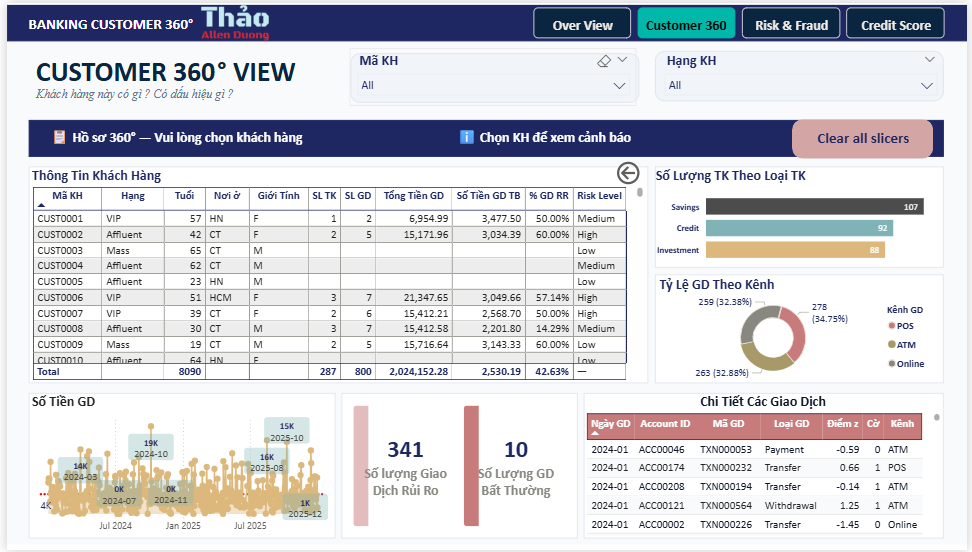

The page's visual inventory and layout, read from the dashboard file:
{"tool":"powerbi","page":{"name":"Customer 360° View","canvas":[1280,730],"ordinal":1},"visuals":[{"type":"cardVisual","fields":{"Data":["_measure.TieuDe_KH_360_v3","_measure.Canhbao_spike_KH_v2"]},"box":[28.3,148.3,1113.3,58.3],"z":0},{"type":"shape","box":[1047,154.3,188.3,52.6],"z":0,"group":"g1"},{"type":"slicer","fields":{"Values":["dim_customers.segment"]},"box":[866.2,60,383.8,76.2],"z":1000},{"type":"slicer","fields":{"Values":["dim_customers.customer_id"]},"box":[456.2,60,383.8,76.2],"z":2000},{"type":"tableEx","title":"Thông Tin Khách Hàng","fields":{"Values":["dim_customers.customer_id","dim_customers.segment","Sum(dim_customers.age)","dim_customers.city","dim_customers.gender","_measure.SL_TK","_measure.SL_GD","_measure.TT_GD","_measure.TB_TIEN_GD","_measure.%_GD_rui_ro","_measure.MUCRR_moi_nhat"]},"box":[28.8,218.8,825,288.8],"z":3000},{"type":"barChart","title":"Số Lượng TK Theo Loại TK","fields":{"Category":["dim_accounts.account_type"],"Y":["_measure.SL_TK"]},"box":[864.3,218.6,384.3,134.3],"z":4000},{"type":"lineChart","title":"Số Tiền GD ","fields":{"Y":["_measure.TT_GD"],"Category":["fact_transactions.txn_date"]},"box":[28.6,520,412.9,195.7],"z":5000},{"type":"cardVisual","fields":{"Data":["_measure.SL_GD_RUI_RO","_measure.SL_GD_spike"]},"box":[445.7,520,321.4,195.7],"z":6000},{"type":"actionButton","box":[1041.4,163.2,200,25.8],"z":7000,"group":"g1"},{"type":"donutChart","title":"Tỷ Lệ GD Theo Kênh","fields":{"Category":["fact_transactions.channel"],"Y":["_measure.SL_GD"]},"box":[865.6,363.3,384.4,144.4],"z":7000},{"type":"tableEx","title":"Chi Tiết Các Giao Dịch","fields":{"Values":["fact_transactions.txn_date","dim_accounts.account_id","fact_transactions.txn_id","fact_transactions.txn_type","Sum(fact_transactions.z_score)","Sum(fact_transactions.risk_flag)","fact_transactions.channel"]},"box":[767.1,520,482.9,195.7],"z":8000},{"type":"group","id":"g1","title":"Clear all Slicer","box":[1041.4,154.3,200,52.9],"z":9000},{"type":"actionButton","box":[808.6,207.1,45.7,40],"z":10000},{"type":"actionButton","box":[1119.7,7.9,131.4,41.7],"z":11000},{"type":"actionButton","box":[840,8.4,131.6,41.1],"z":12000},{"type":"actionButton","box":[702.6,7.9,128.9,41.6],"z":13000},{"type":"actionButton","box":[981.1,7.9,129.5,41.1],"z":14000}]}

Visuals, with their boxes in screenshot pixels (x1, y1, x2, y2), scaled from the page's 1280x730 canvas onto the 972x552 screenshot:
cardVisual - _measure.TieuDe_KH_360_v3 x _measure.Canhbao_spike_KH_v2: [left=21, top=112, right=867, bottom=156]
shape: [left=795, top=117, right=938, bottom=156]
slicer - dim_customers.segment: [left=658, top=45, right=949, bottom=103]
slicer - dim_customers.customer_id: [left=346, top=45, right=638, bottom=103]
"Thông Tin Khách Hàng" tableEx: [left=22, top=165, right=648, bottom=384]
"Số Lượng TK Theo Loại TK" barChart: [left=656, top=165, right=948, bottom=267]
"Số Tiền GD " lineChart: [left=22, top=393, right=335, bottom=541]
cardVisual - _measure.SL_GD_RUI_RO x _measure.SL_GD_spike: [left=338, top=393, right=583, bottom=541]
actionButton: [left=791, top=123, right=943, bottom=143]
"Tỷ Lệ GD Theo Kênh" donutChart: [left=657, top=275, right=949, bottom=384]
"Chi Tiết Các Giao Dịch" tableEx: [left=583, top=393, right=949, bottom=541]
"Clear all Slicer" group: [left=791, top=117, right=943, bottom=157]
actionButton: [left=614, top=157, right=649, bottom=187]
actionButton: [left=850, top=6, right=950, bottom=38]
actionButton: [left=638, top=6, right=738, bottom=37]
actionButton: [left=534, top=6, right=631, bottom=37]
actionButton: [left=745, top=6, right=843, bottom=37]
